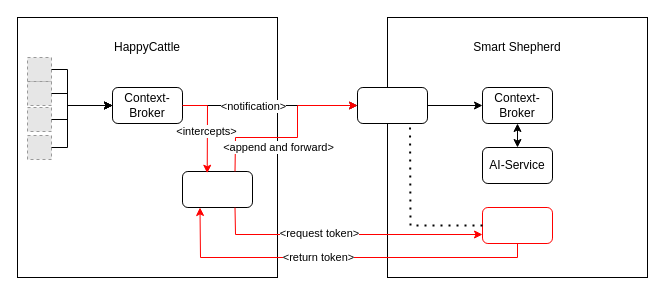
This 665x295 diagram has some shape labels left out. Grey dashed boxes stand in for pictures. Each missing label, with the centre of its shape:
"IDP" goes at (517,225).
"PEP-Proxy" goes at (392,105).
"Sidecar-Proxy" goes at (217,189).
